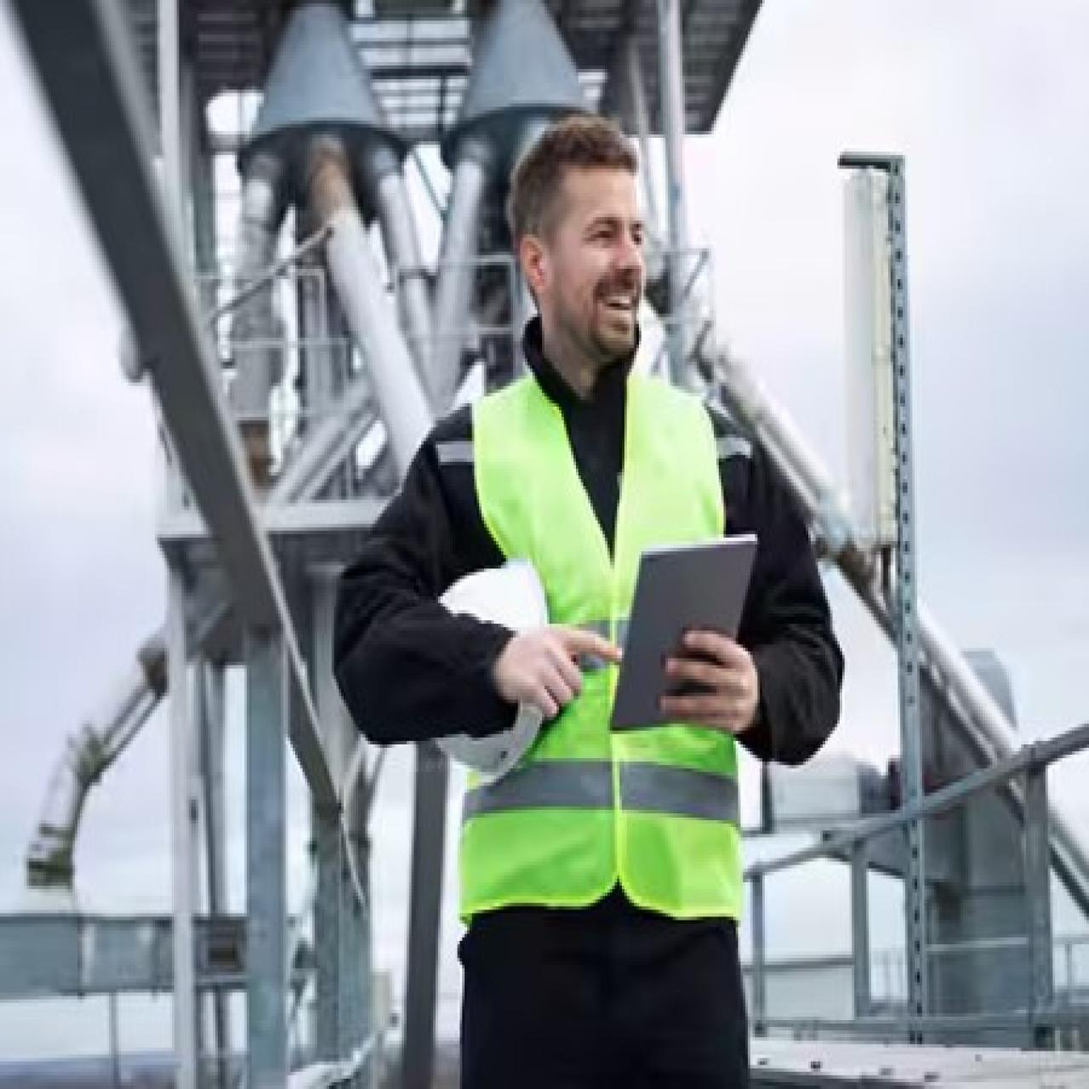Person: (327, 99, 859, 1089)
Safety_Vest: (450, 380, 748, 921)
